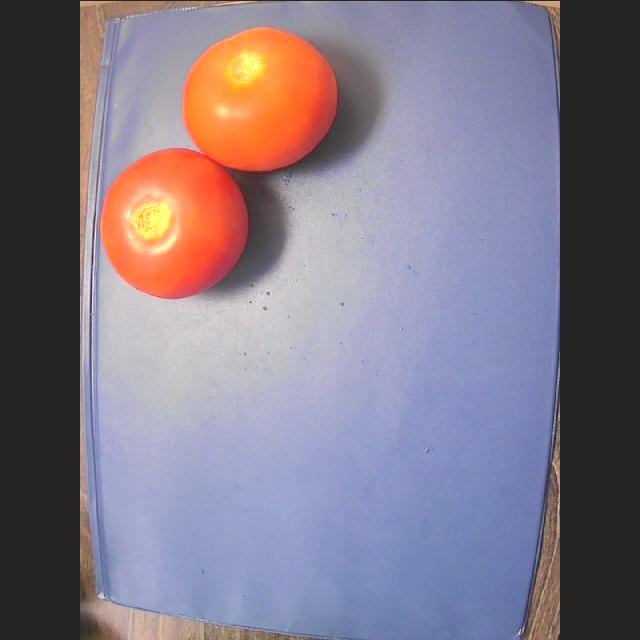tomate: (183, 27, 337, 169), (101, 148, 247, 297)
